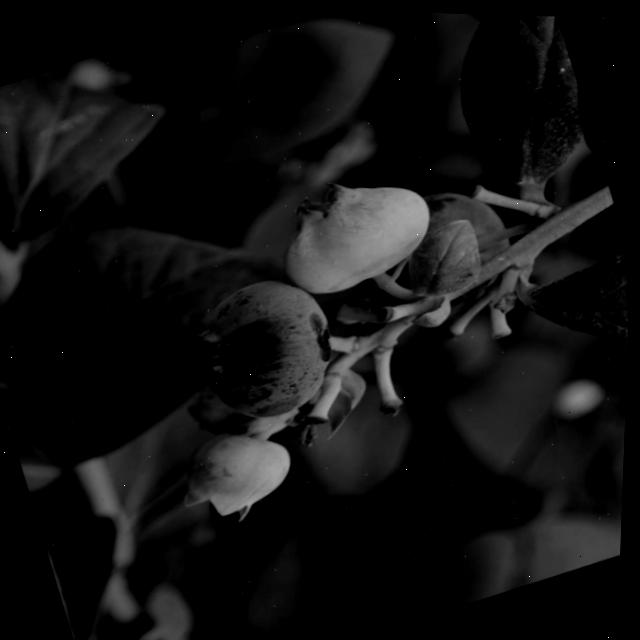Semi-RipeBlueBerry: (171, 256, 359, 444)
UnripeBlueBerry: (261, 156, 452, 313)
